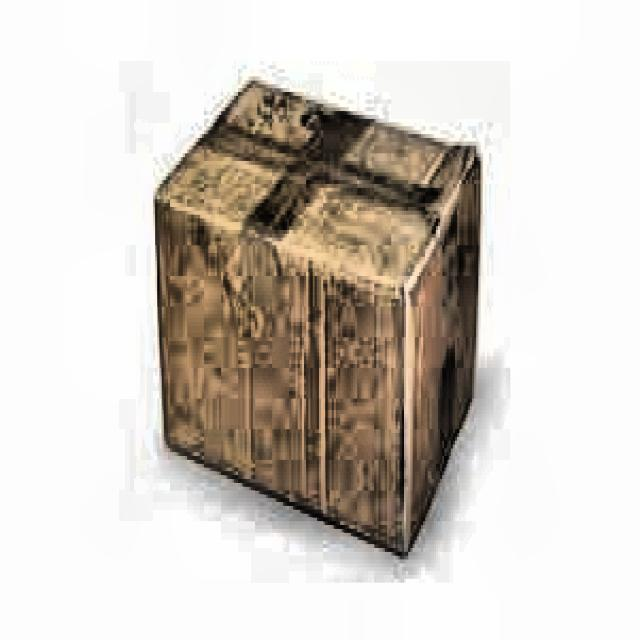cardboard: (151, 73, 483, 556)
